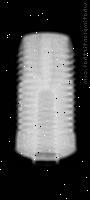Euroteknika: (14, 30, 78, 167)
